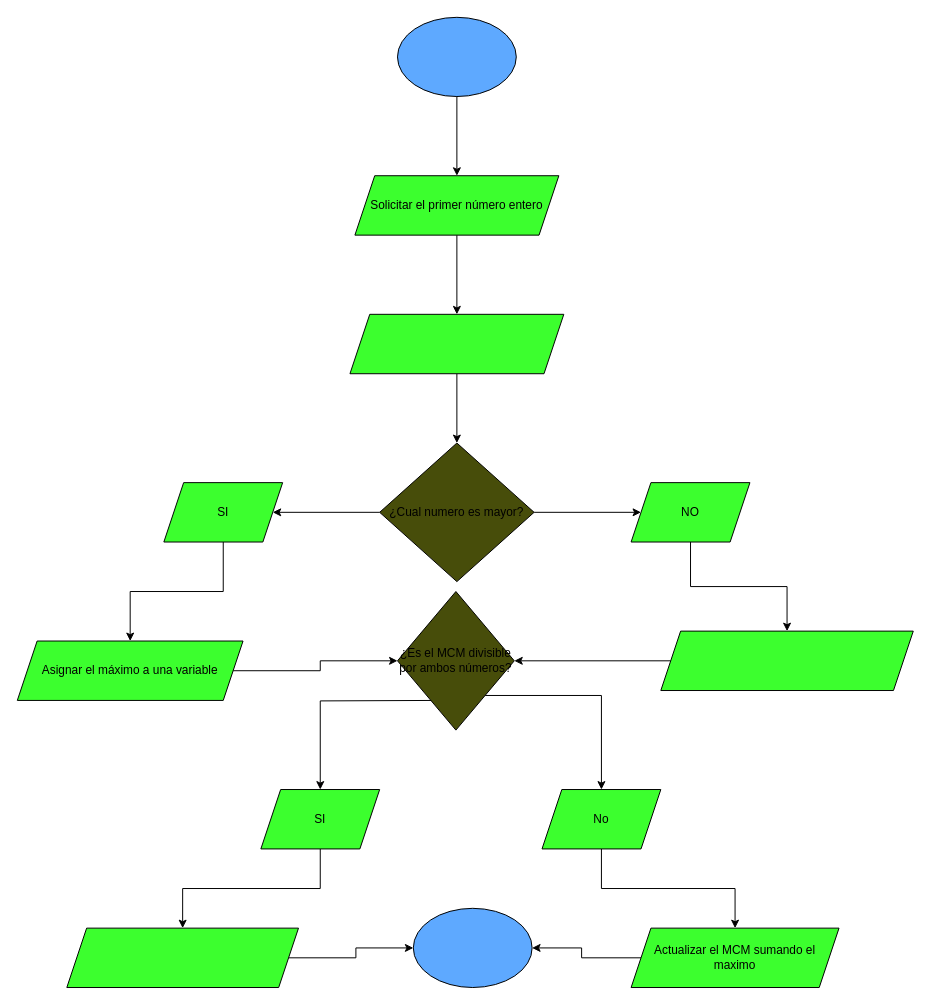
The diagram is 931 pixels wide and 1005 high, and some of its shapes have lost their labels. The box of each missing label's shape, as (x1, y1, x2, y2) in pixels:
FIN: (412, 907, 532, 988)
Iniciar el MCM con el VALOR de maxino: (660, 630, 913, 691)
INICIO: (396, 16, 516, 97)
Mostrar el MCM calculado: (66, 927, 298, 988)
Solicitar el segundo numero entero: (349, 313, 564, 374)
